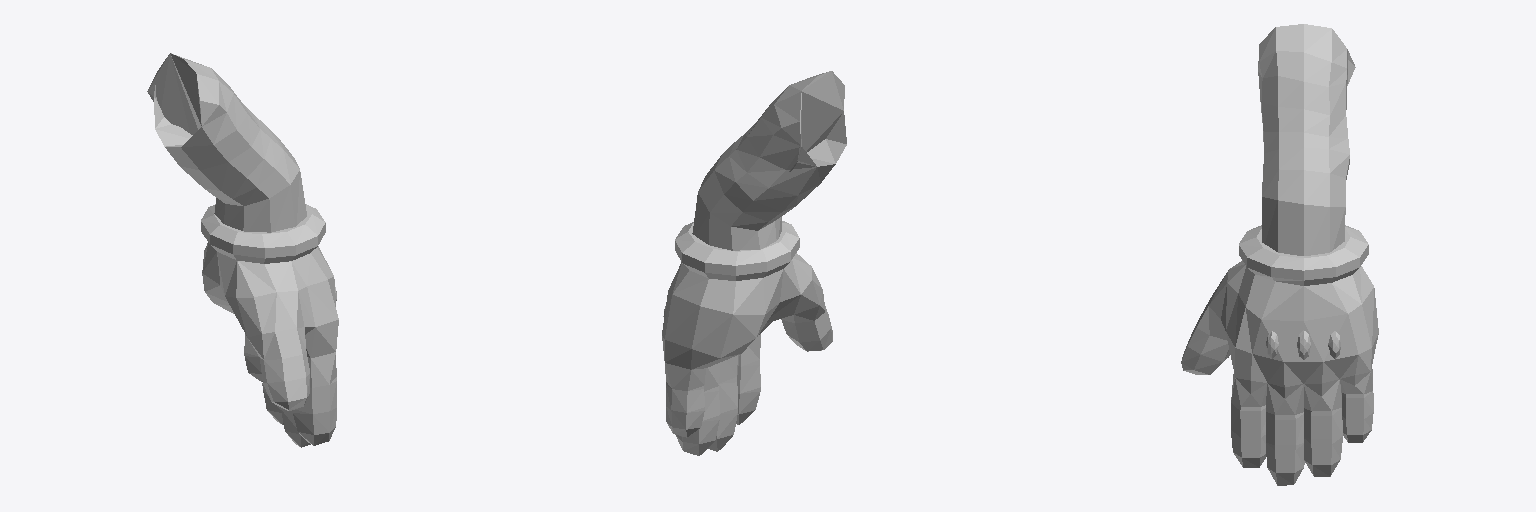
Rendered from brazoIzquierdoAvatar.obj.
3 views of the same model, side by side, from view 1: azimuth 30°, elevation 25°; view 2: azimuth 150°, elevation 25°; view 3: azimuth 270°, elevation 25° (orthographic).
Visible parts, largest first — view 1: body.004; view 2: body.004; view 3: body.004.
Part boxes in pixels (bbox=[...]): body.004: bbox=[147, 53, 338, 447]; body.004: bbox=[662, 71, 846, 455]; body.004: bbox=[1181, 24, 1378, 485].
Size of the model in its own units: 0.3803 by 0.9241 by 0.4087.